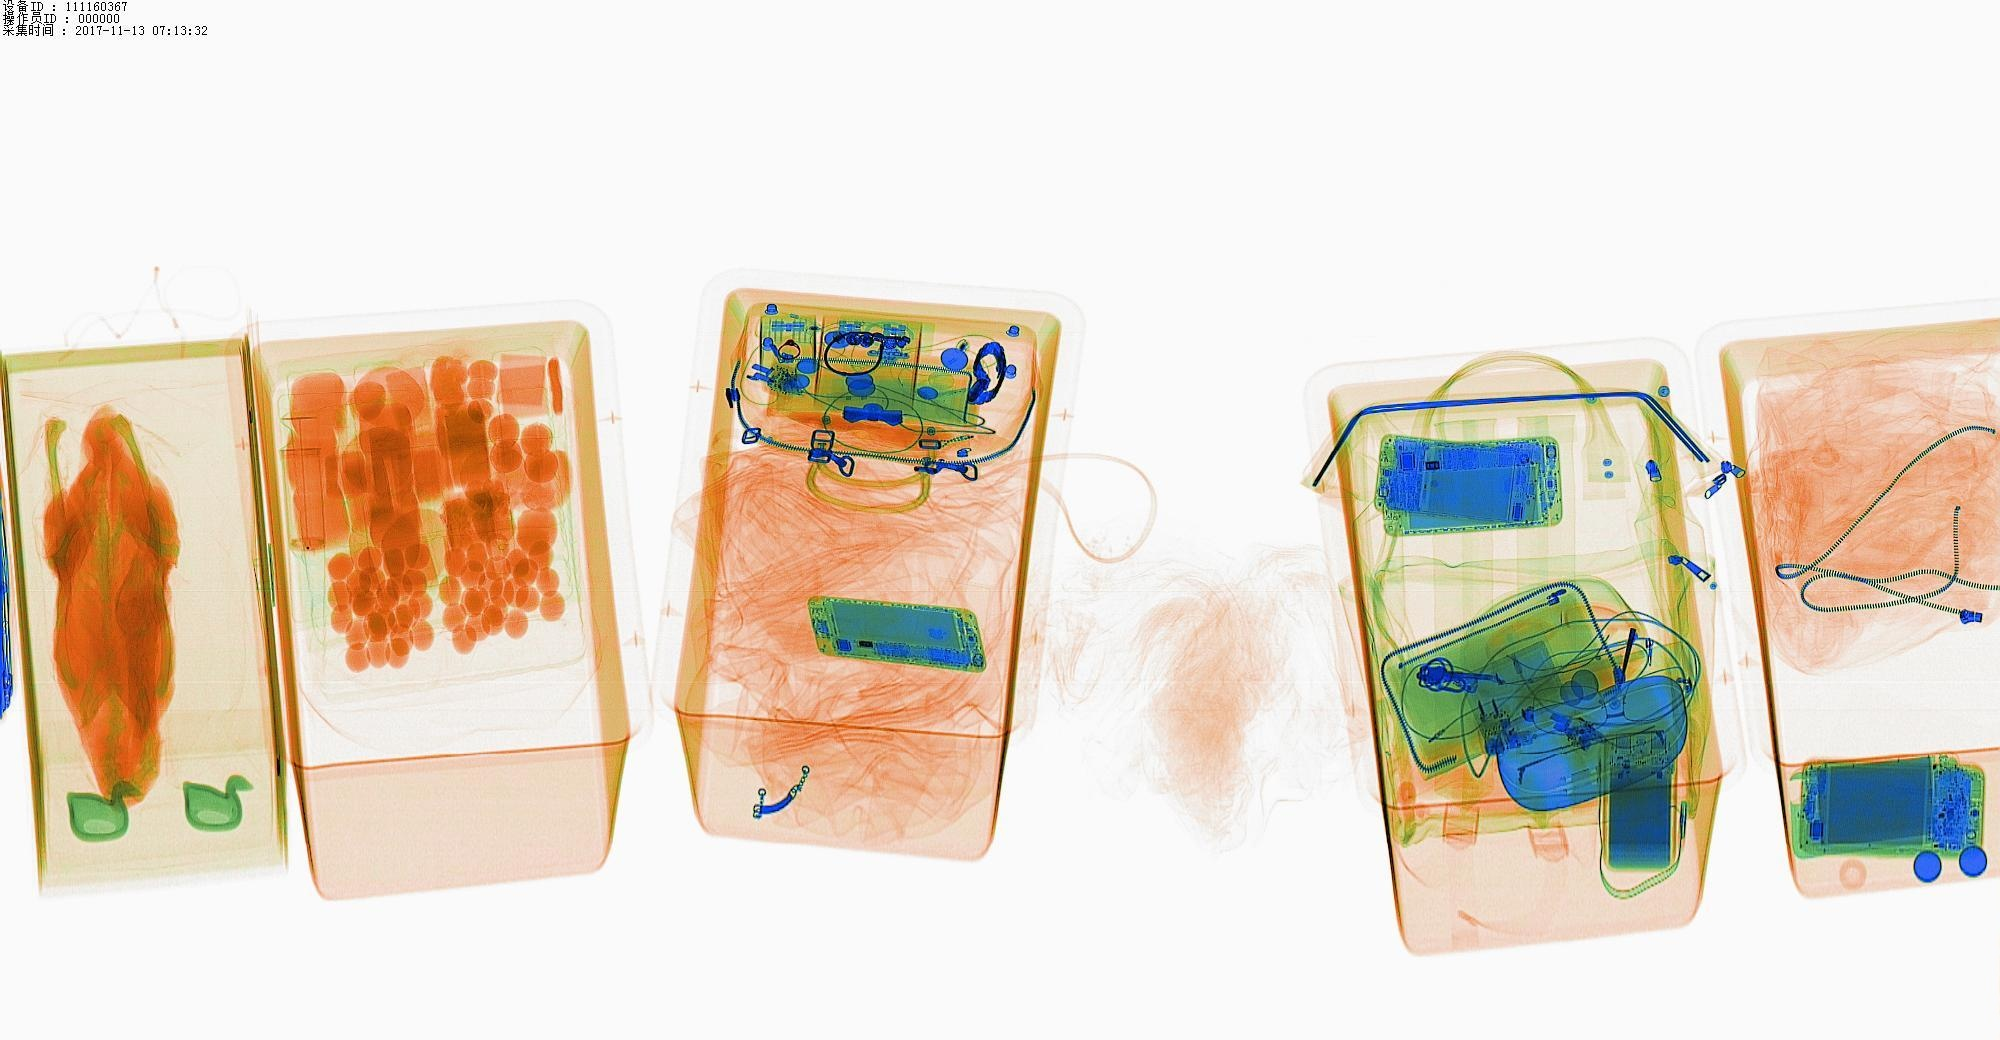coreless: (1806, 759, 1975, 845), (1604, 729, 1675, 879)
